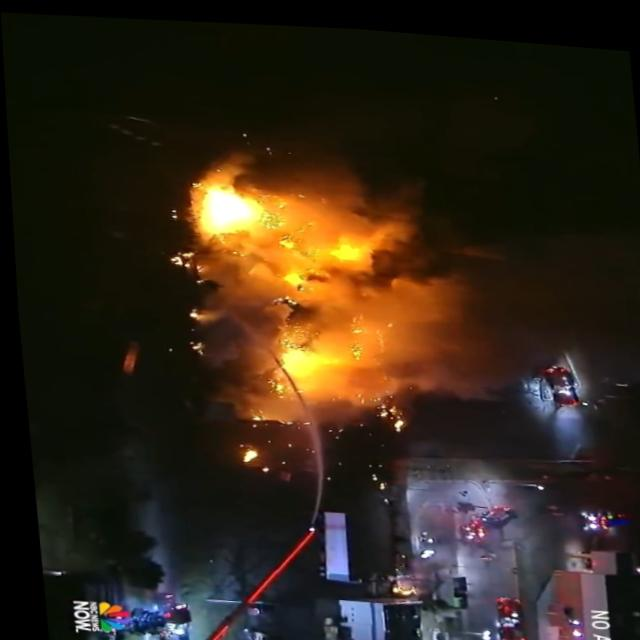Fire: (179, 157, 370, 388), (220, 433, 269, 472)
